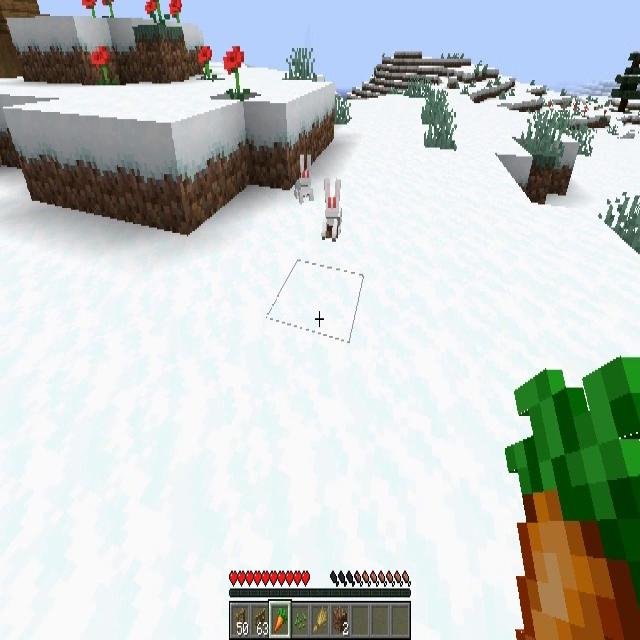flower: (223, 44, 246, 102), (92, 47, 110, 89), (198, 44, 213, 80), (145, 0, 158, 23), (169, 0, 181, 23), (83, 0, 96, 18), (102, 0, 114, 19)
rabbit: (322, 178, 342, 238), (294, 156, 313, 204)
